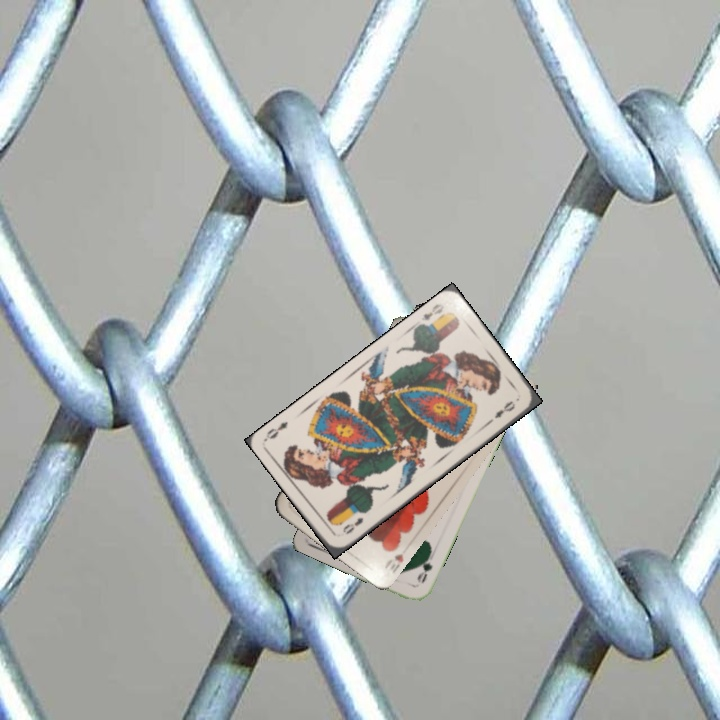EO: (417, 299, 447, 323), (339, 513, 366, 537)
GO: (413, 549, 435, 587)
H10: (380, 549, 406, 576)
